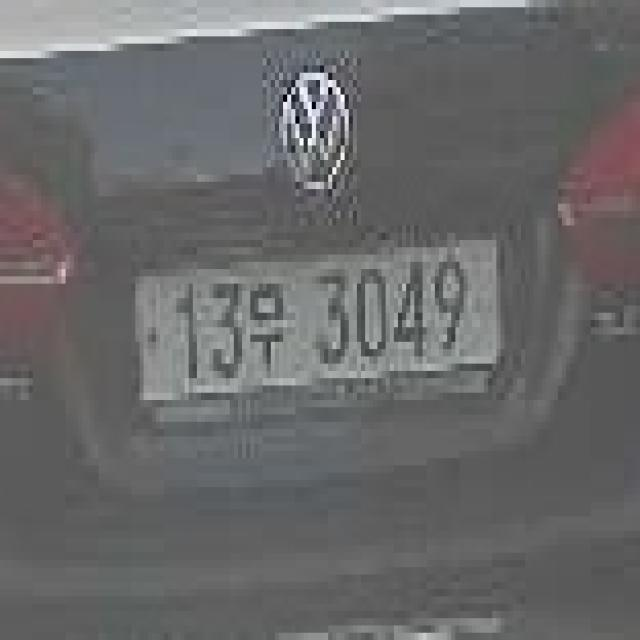0: (357, 255, 394, 378)
1: (172, 269, 205, 400)
3: (205, 269, 250, 407), (308, 254, 353, 386)
4: (394, 247, 431, 378)
9: (431, 240, 476, 378)
license_plate: (119, 218, 513, 436)
mu: (246, 276, 291, 400)
